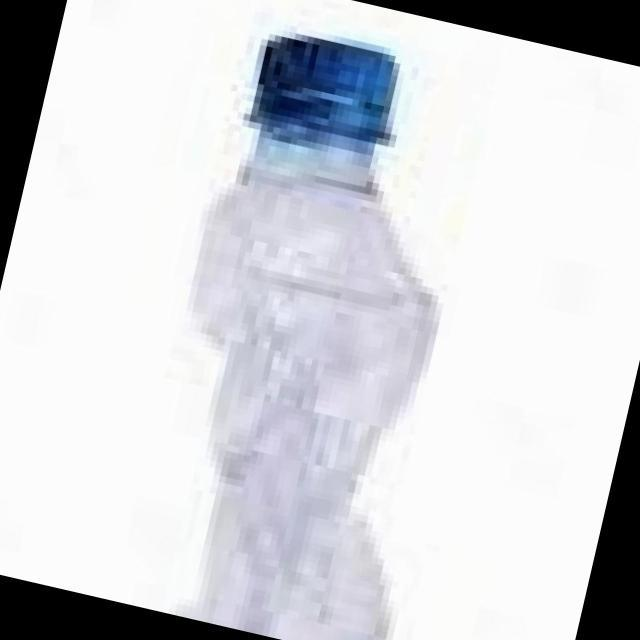defected: (113, 7, 538, 640)
